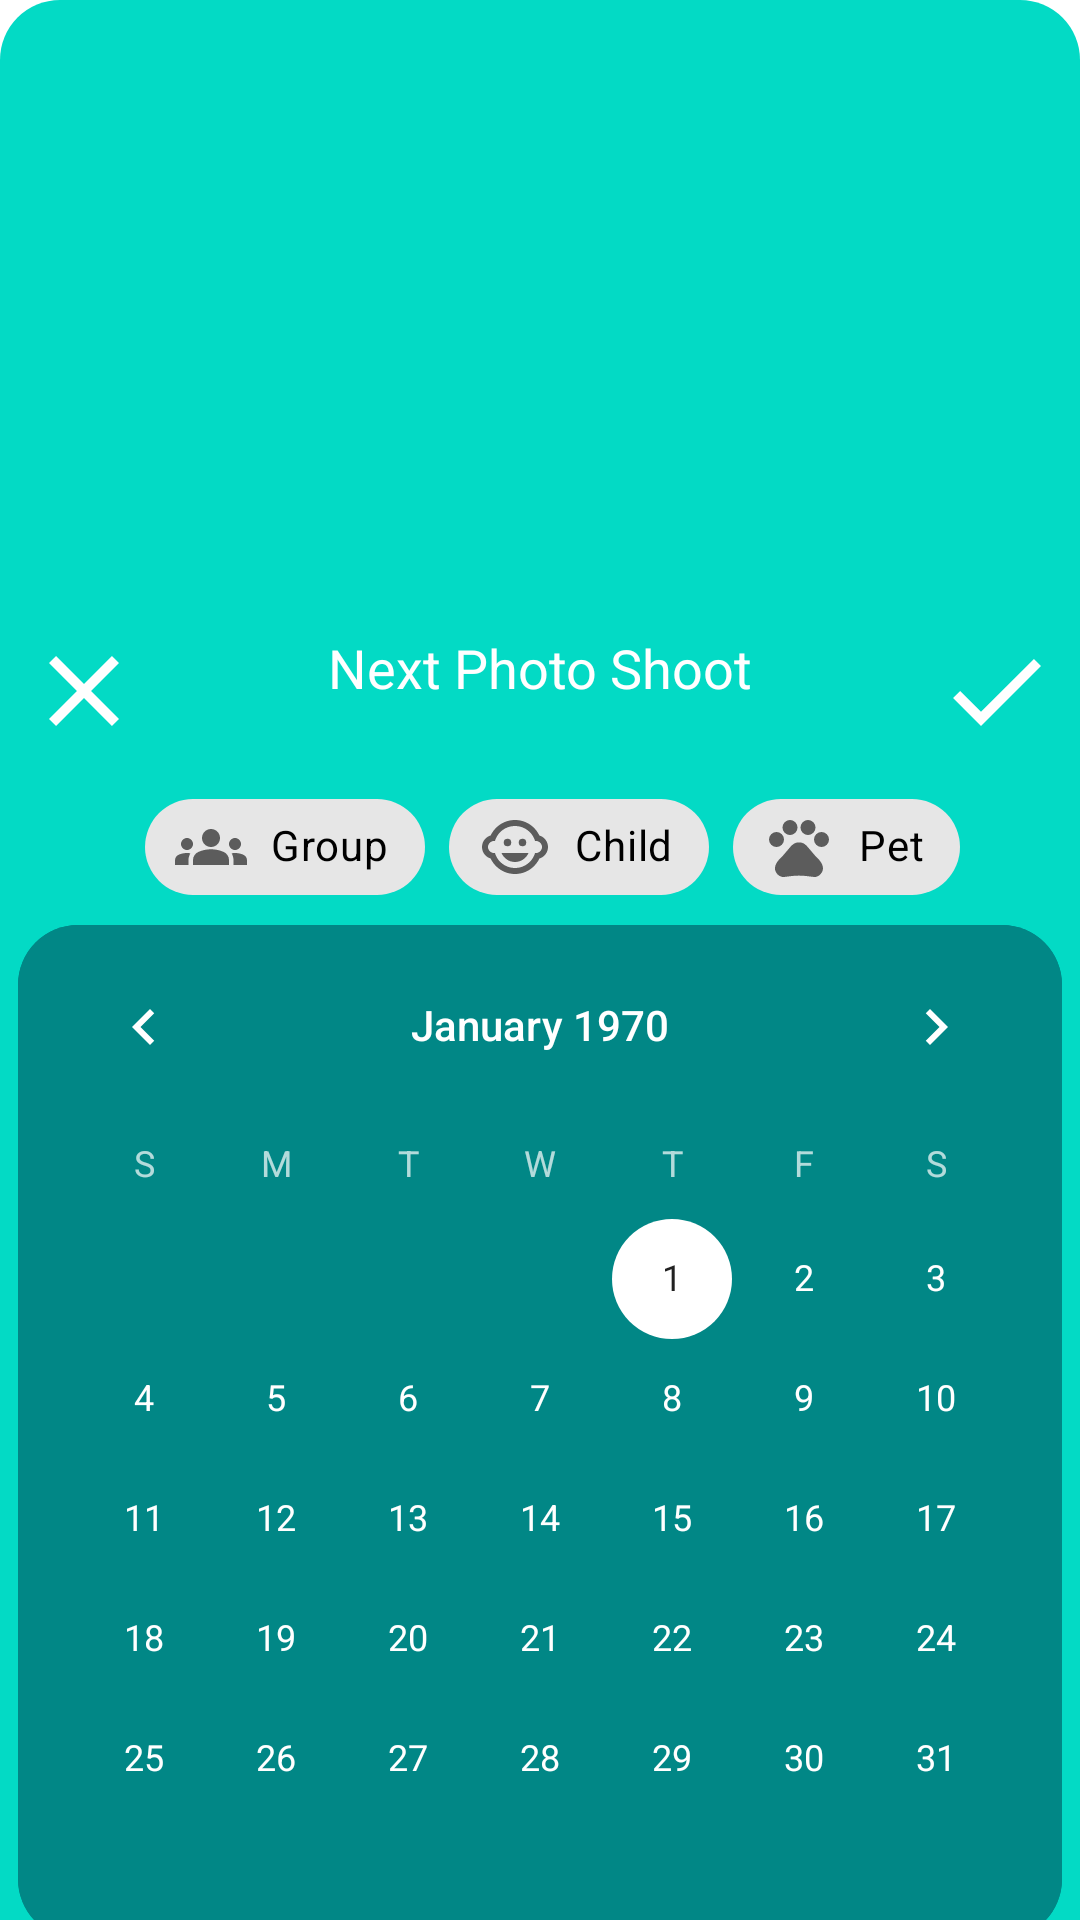

Where icons sit on this 1080w x 1920h app screen, as (x1, y1, x2, y2):
Cancel making changes to the next photo shoot: (49, 656, 119, 726)
Save changes to the next photo shoot: (953, 659, 1041, 726)
